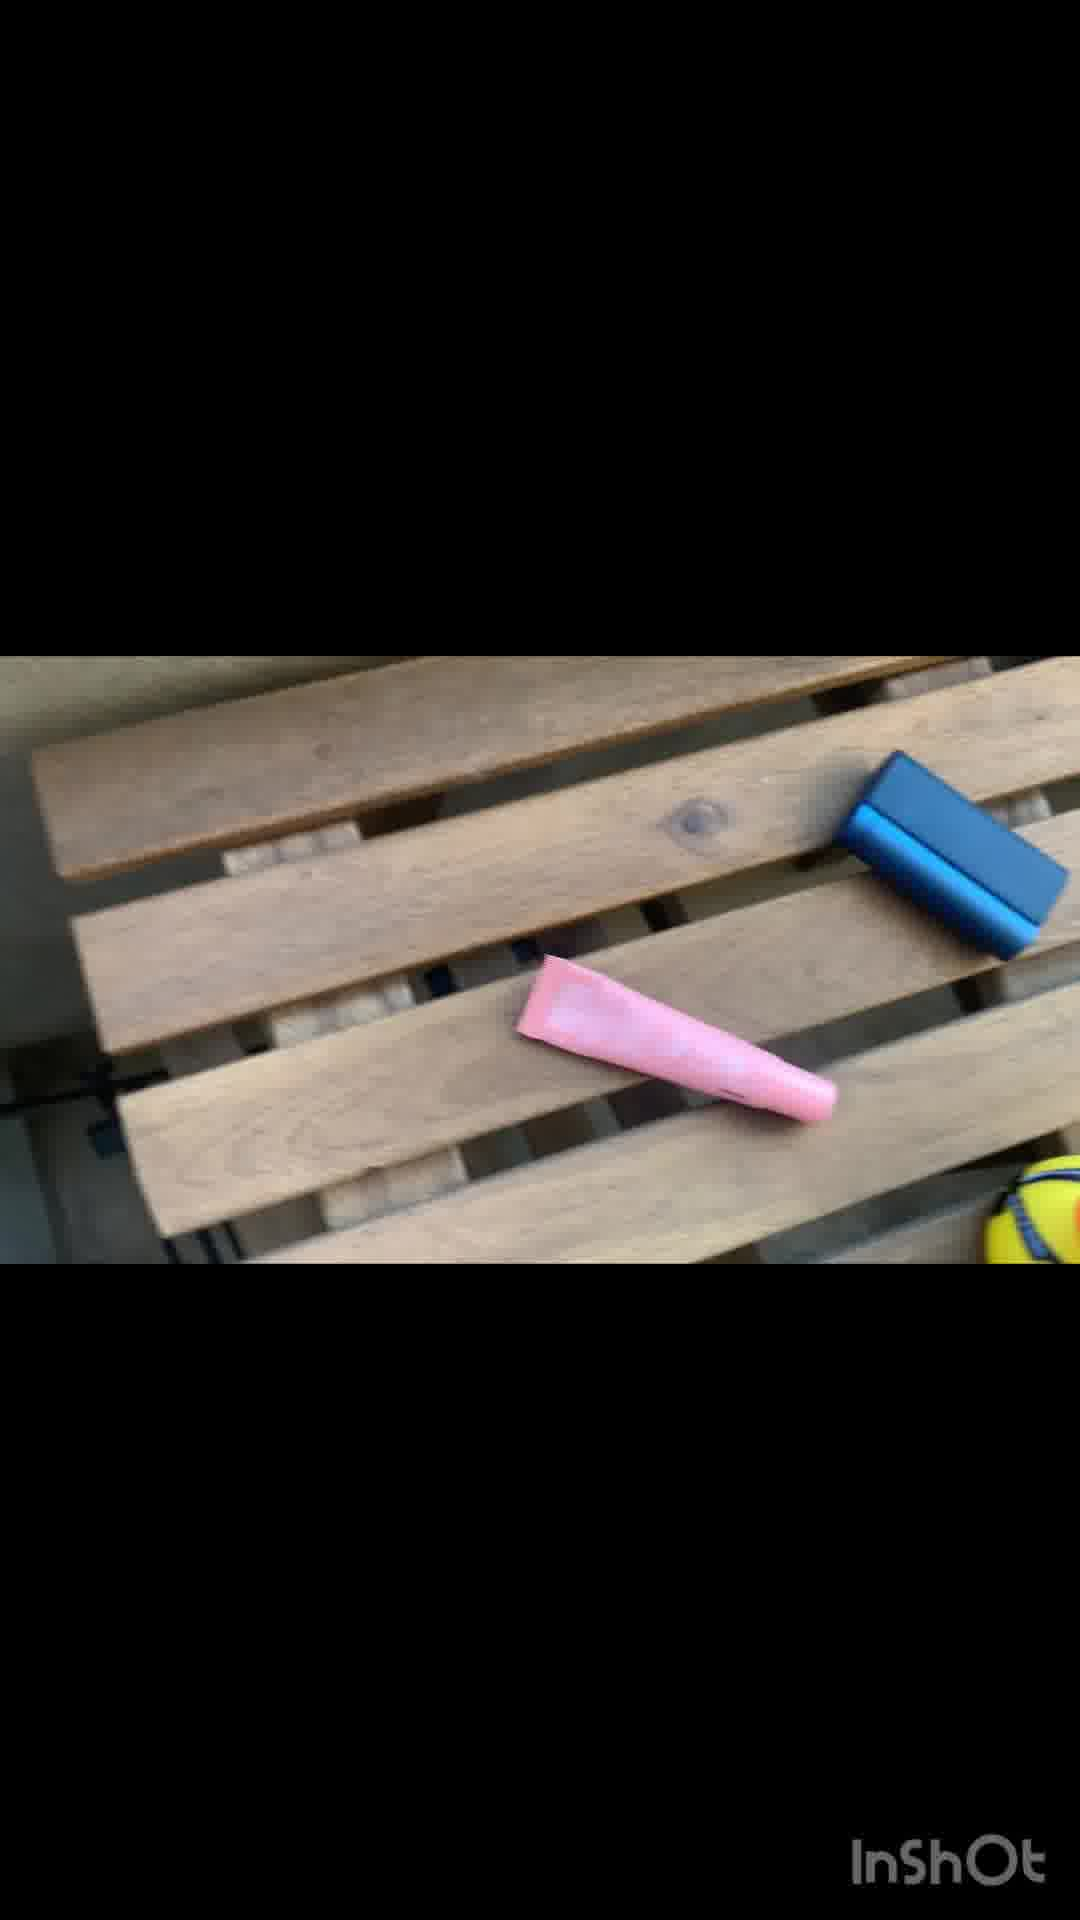duck: (980, 1153, 1080, 1267)
glo: (856, 752, 1067, 963)
lip balm: (510, 957, 851, 1131)
